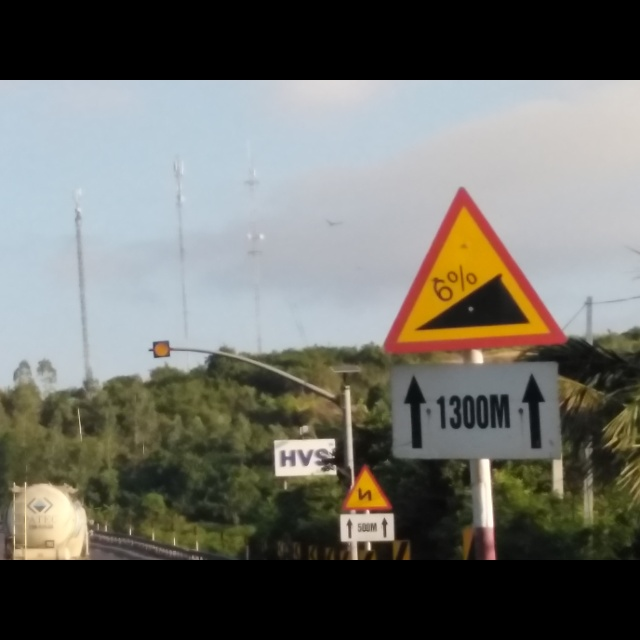Dốc lên nguy hiểm: (383, 183, 576, 356)
Ngoặt nguy hiểm liên tiếp bên phải: (340, 463, 395, 511)
